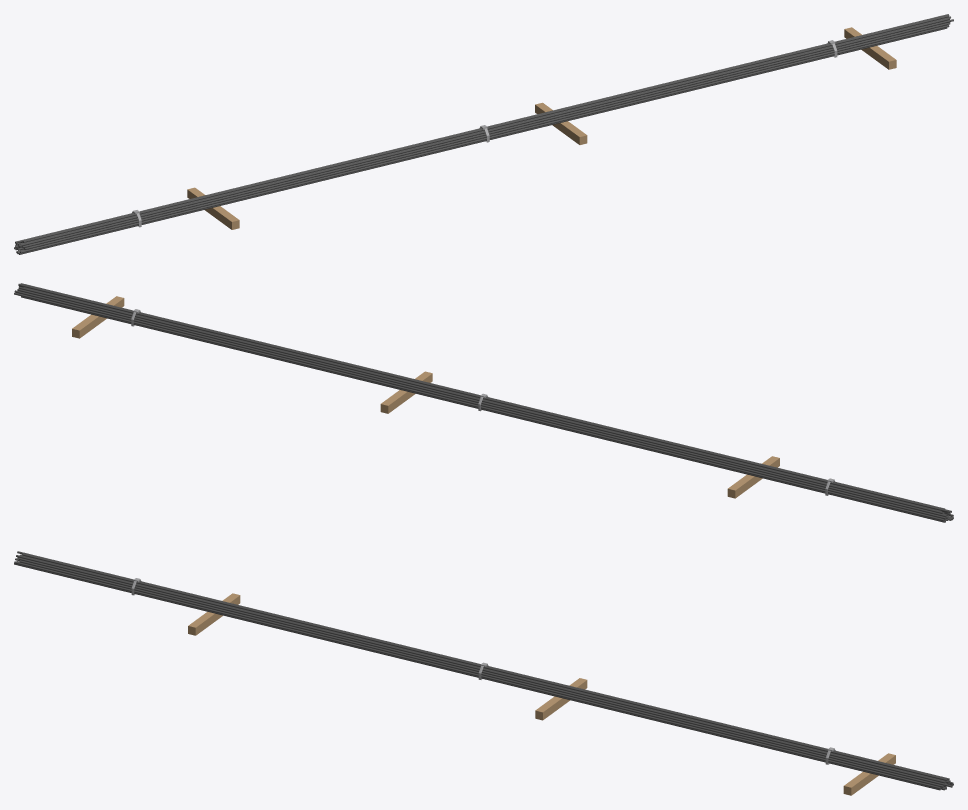
The model's file is rebar_bundle.glb.
The picture shows the model from 3 angles, top to bottom: view 1: azimuth 30°, elevation 25°; view 2: azimuth 150°, elevation 25°; view 3: azimuth 330°, elevation 25°; orthographic projection.
Parts seen in each view (by area): view 1: rebar_bars, dunnage; view 2: rebar_bars, dunnage; view 3: rebar_bars, dunnage.
Part boxes in pixels (x1,y1,x2,y2): rebar_bars: (14,14,953,254); dunnage: (187,27,896,229); rebar_bars: (14,283,953,522); dunnage: (72,296,779,498); rebar_bars: (14,551,953,790); dunnage: (188,593,895,795).
Size of the model in its own units: 12.11 by 0.2524 by 1.
Materials: 3 (3 with a texture image).
